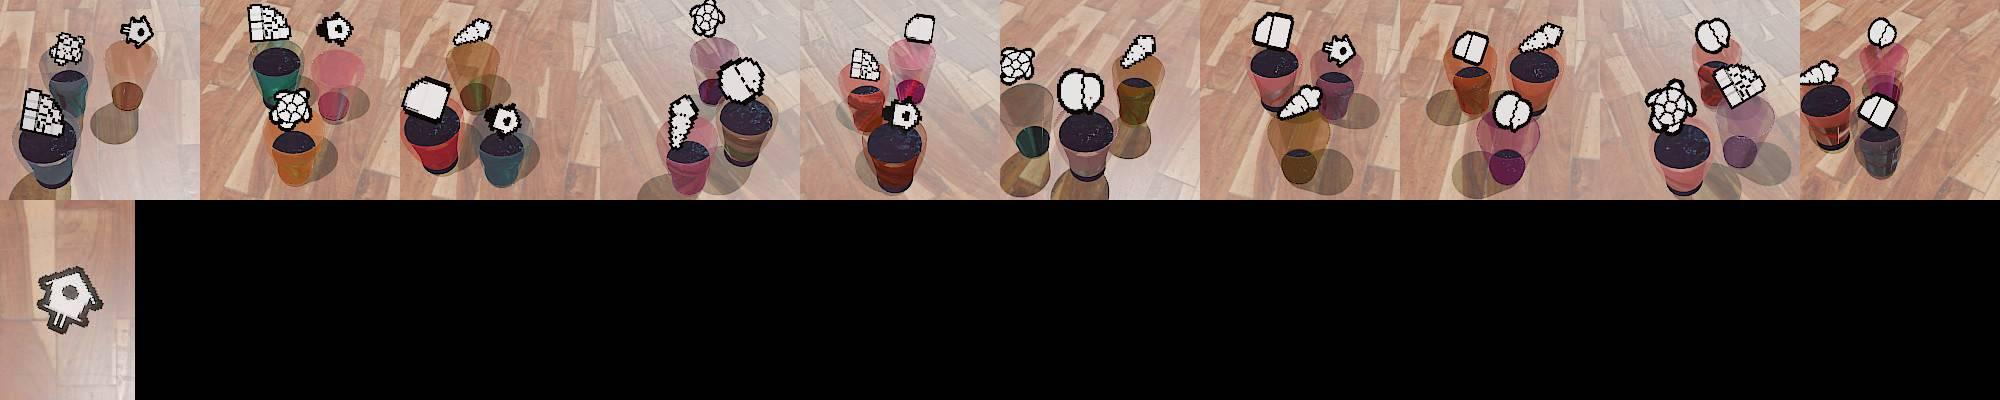icon: (34, 265, 105, 334), (17, 87, 77, 166), (1645, 75, 1696, 135), (401, 75, 455, 122), (716, 56, 765, 103), (1057, 68, 1105, 116), (1719, 64, 1765, 108), (268, 88, 314, 131), (1490, 89, 1534, 131), (246, 3, 292, 43), (1272, 84, 1321, 120), (667, 93, 699, 148), (1517, 22, 1565, 56), (1856, 92, 1898, 130), (1253, 11, 1293, 50), (482, 101, 522, 139), (1450, 29, 1489, 68), (999, 46, 1036, 85), (452, 17, 494, 51), (689, 0, 726, 38), (48, 31, 87, 68), (315, 11, 355, 47), (1120, 34, 1157, 70), (886, 96, 923, 131), (1695, 18, 1731, 54), (1320, 33, 1357, 68), (119, 14, 153, 48), (849, 47, 881, 83), (1798, 60, 1838, 87), (903, 13, 935, 45), (1867, 18, 1898, 50)
